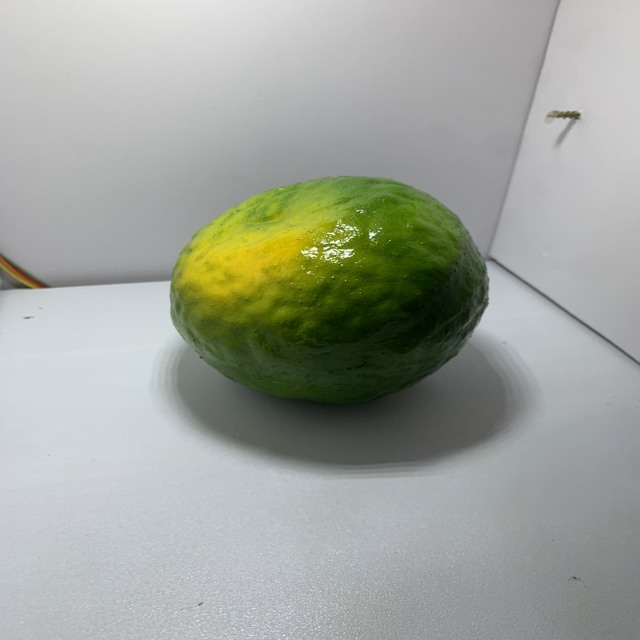Cam xanh: (166, 164, 494, 408)
